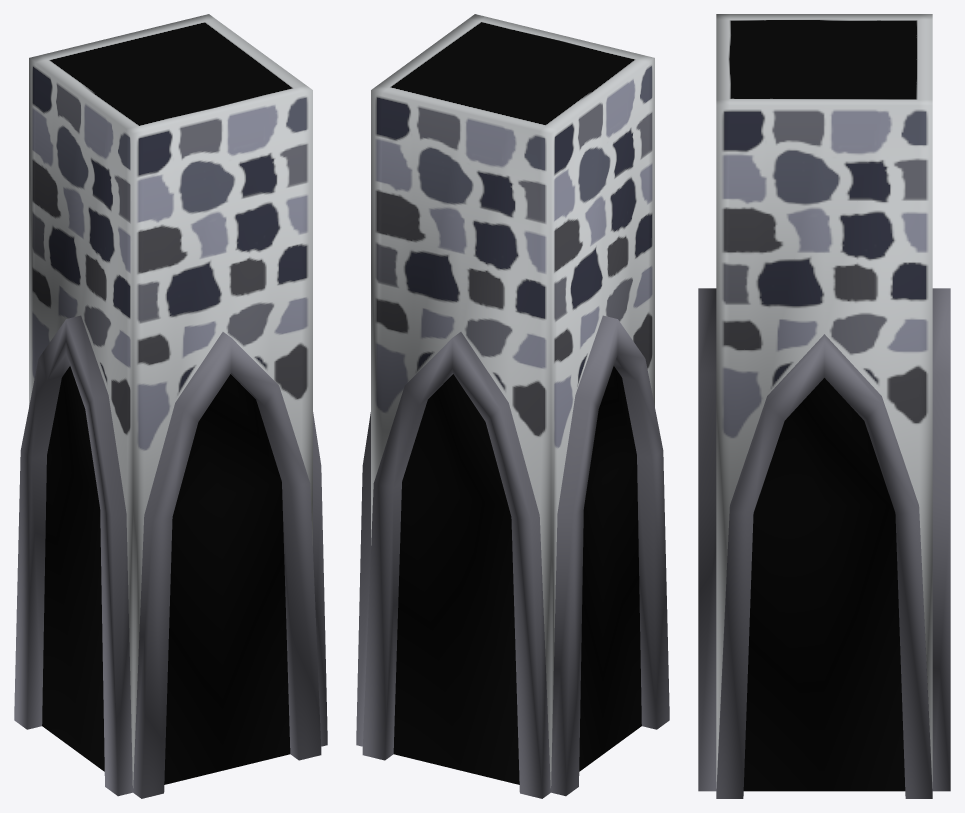
The model's file is door_four_set.obj.
The picture shows the model from 3 angles, left to right: view 1: azimuth 30°, elevation 25°; view 2: azimuth 150°, elevation 25°; view 3: azimuth 270°, elevation 25°; orthographic projection. The views are drawn at different scales.
Visible parts, largest first — view 1: Door_(Four_Set); view 2: Door_(Four_Set); view 3: Door_(Four_Set).
Boxes of the visible parts, x1=… form: Door_(Four_Set): x1=14, y1=14, x2=327, y2=798; Door_(Four_Set): x1=356, y1=14, x2=669, y2=798; Door_(Four_Set): x1=698, y1=14, x2=950, y2=798.
Size of the model in its own units: 2 by 6 by 2.
Materials: 1 (1 with a texture image).
